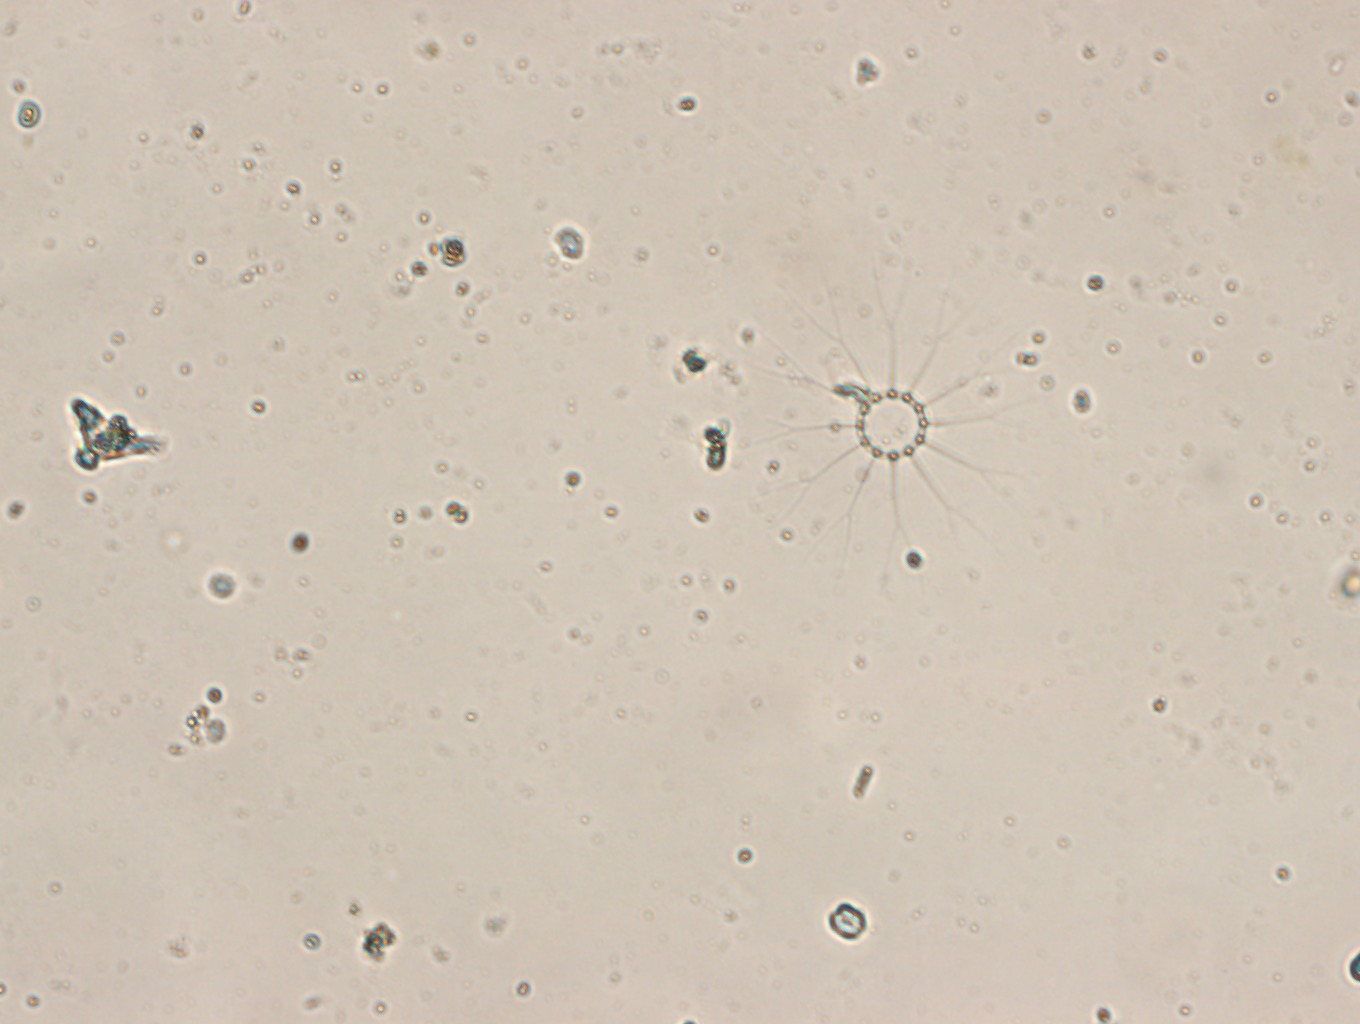helicotheca: (733, 257, 1046, 583)
